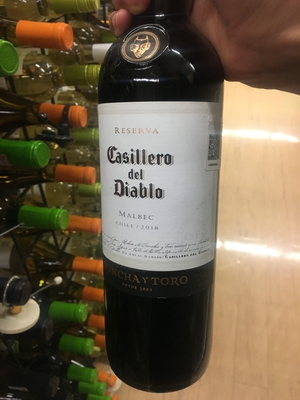casillero del diablo malbec: (92, 18, 243, 384)
